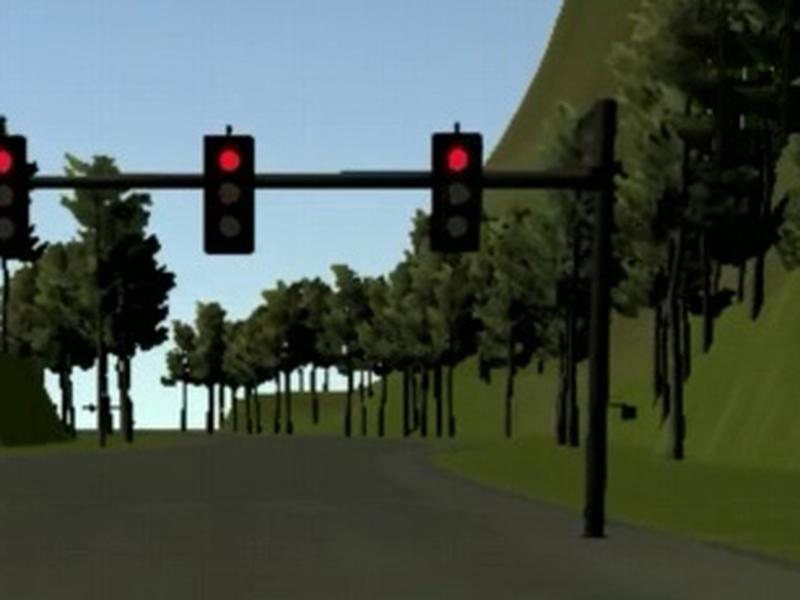Red: (432, 130, 483, 251), (204, 134, 254, 254), (1, 135, 27, 258)
